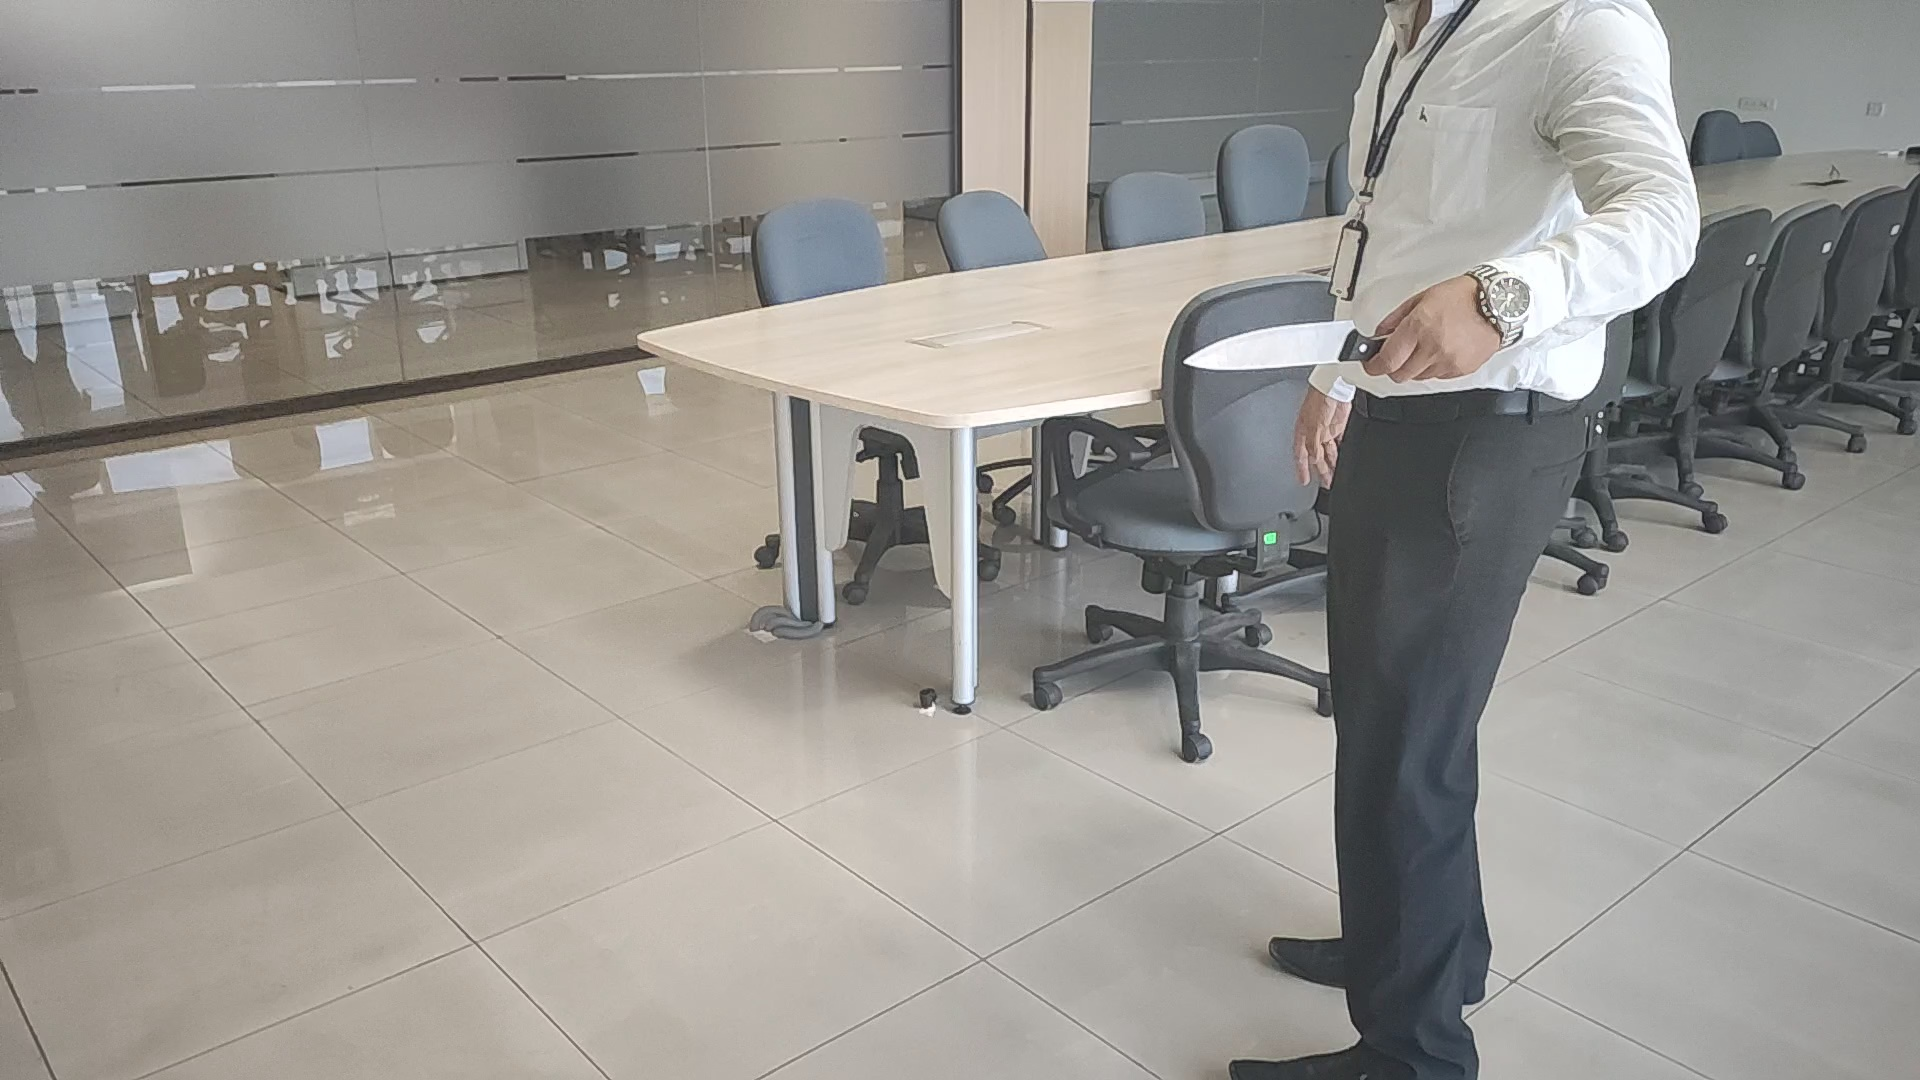knife: (1179, 319, 1383, 376)
